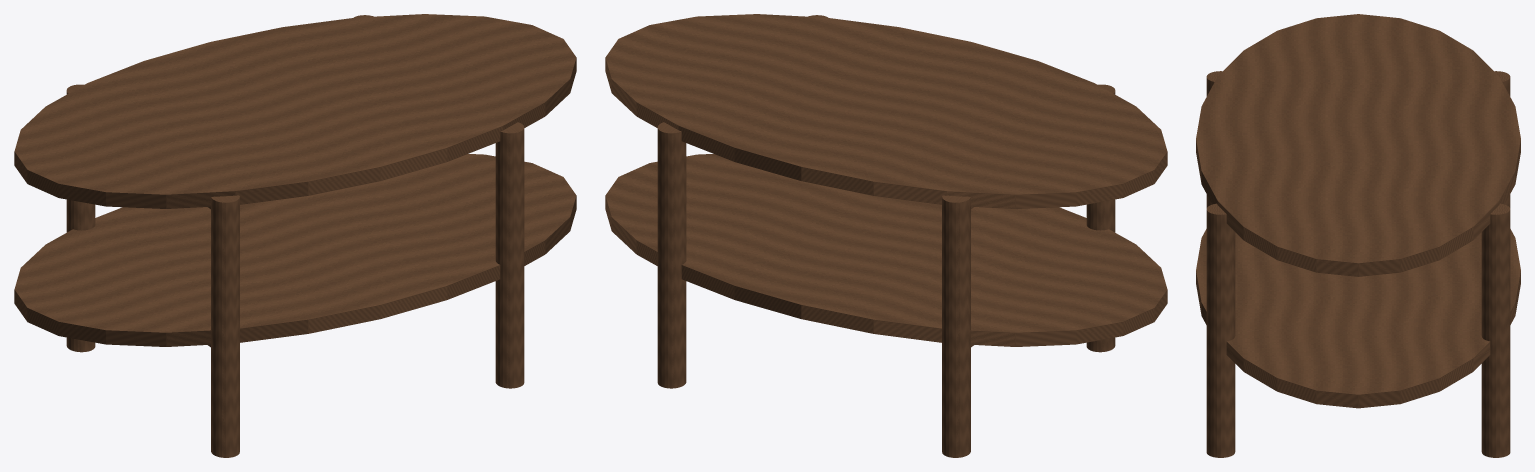
The picture shows the model from 3 angles, left to right: view 1: azimuth 30°, elevation 25°; view 2: azimuth 150°, elevation 25°; view 3: azimuth 270°, elevation 25°; orthographic projection. The views are drawn at different scales.
Visible parts, largest first — view 1: 1 tabletop_frame, 3 lower_shelf_frame, 6 leg_front_right, 5 leg_front_left, 7 leg_back_left; view 2: 1 tabletop_frame, 3 lower_shelf_frame, 8 leg_back_right, 7 leg_back_left, 5 leg_front_left; view 3: 1 tabletop_frame, 3 lower_shelf_frame, 6 leg_front_right, 8 leg_back_right.
Boxes of the visible parts, <box> form: 1 tabletop_frame: <box>14,14,576,208</box>; 3 lower_shelf_frame: <box>14,154,576,346</box>; 6 leg_front_right: <box>495,122,524,388</box>; 5 leg_front_left: <box>211,195,239,457</box>; 7 leg_back_left: <box>66,84,95,352</box>; 1 tabletop_frame: <box>605,14,1167,208</box>; 3 lower_shelf_frame: <box>605,154,1167,346</box>; 8 leg_back_right: <box>657,122,686,388</box>; 7 leg_back_left: <box>942,195,970,457</box>; 5 leg_front_left: <box>1086,84,1115,352</box>; 1 tabletop_frame: <box>1196,14,1520,276</box>; 3 lower_shelf_frame: <box>1196,229,1520,408</box>; 6 leg_front_right: <box>1206,203,1235,457</box>; 8 leg_back_right: <box>1481,203,1510,457</box>.
Size of the model in its own units: 2.16 by 1 by 1.19.
Materials: 3 (2 with a texture image).
